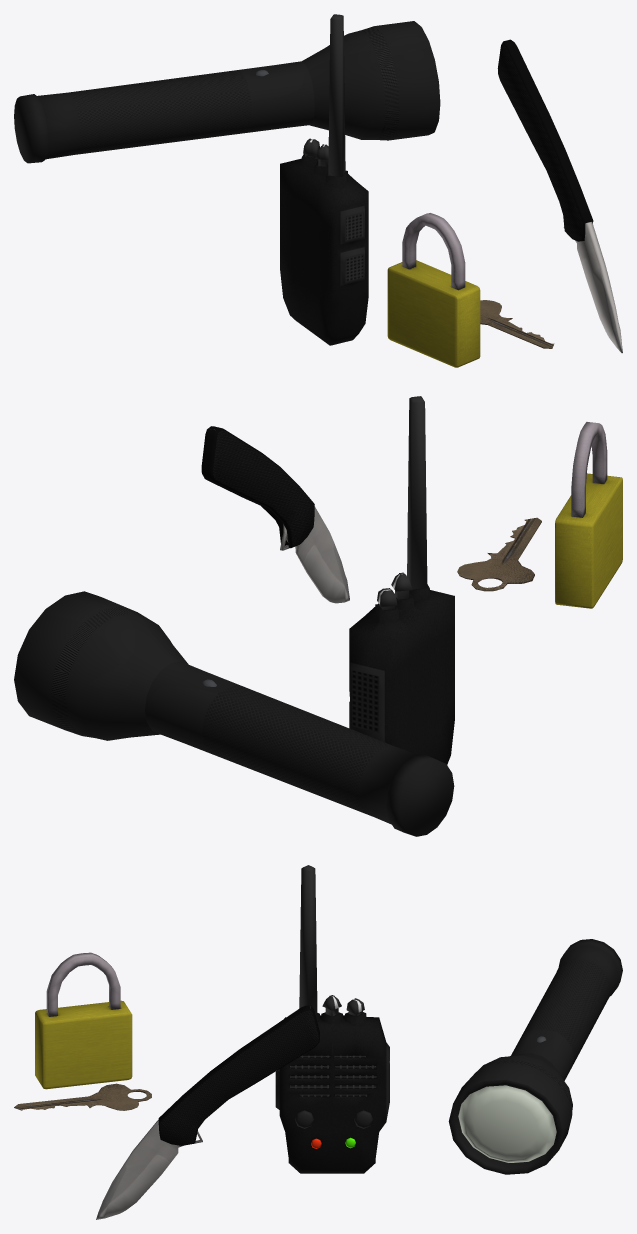
Rendered from PSXHorrorKit_Default.obj.
The picture shows the model from 3 angles, top to bottom: view 1: azimuth 30°, elevation 25°; view 2: azimuth 150°, elevation 25°; view 3: azimuth 270°, elevation 25°; orthographic projection. The views are drawn at different scales.
Parts seen in each view (by area): view 1: Flashlight_Material.012, Radio_Material.015, Lock_Body_Material.013, Knife_Handle_Material.014, Radio_Antenna_Material.015, Knife_Blade_Material.014, Lock_Bar_Material.013, Key_Material.013; view 2: Flashlight_Material.012, Radio_Material.015, Lock_Body_Material.013, Knife_Handle_Material.014, Radio_Antenna_Material.015, Knife_Blade_Material.014, Key_Material.013, Lock_Bar_Material.013; view 3: Flashlight_Material.012, Radio_Material.015, Lock_Body_Material.013, Knife_Handle_Material.014, Knife_Blade_Material.014, Radio_Antenna_Material.015, Lock_Bar_Material.013, Key_Material.013, Radio_Speaker_Material.015.
Boxes of the visible parts, x1=… form: Flashlight_Material.012: x1=14, y1=21, x2=440, y2=163; Radio_Material.015: x1=280, y1=153, x2=368, y2=345; Lock_Body_Material.013: x1=387, y1=260, x2=480, y2=367; Knife_Handle_Material.014: x1=497, y1=39, x2=593, y2=241; Radio_Antenna_Material.015: x1=328, y1=14, x2=345, y2=176; Knife_Blade_Material.014: x1=563, y1=222, x2=622, y2=353; Lock_Bar_Material.013: x1=402, y1=213, x2=465, y2=290; Key_Material.013: x1=480, y1=300, x2=554, y2=348; Flashlight_Material.012: x1=14, y1=591, x2=454, y2=836; Radio_Material.015: x1=349, y1=584, x2=454, y2=764; Lock_Body_Material.013: x1=555, y1=473, x2=622, y2=608; Knife_Handle_Material.014: x1=201, y1=426, x2=314, y2=548; Radio_Antenna_Material.015: x1=407, y1=396, x2=427, y2=589; Knife_Blade_Material.014: x1=280, y1=506, x2=349, y2=603; Key_Material.013: x1=457, y1=517, x2=541, y2=591; Lock_Bar_Material.013: x1=571, y1=422, x2=607, y2=517; Flashlight_Material.012: x1=448, y1=939, x2=622, y2=1174; Radio_Material.015: x1=275, y1=1012, x2=389, y2=1173; Lock_Body_Material.013: x1=35, y1=1000, x2=132, y2=1089; Knife_Handle_Material.014: x1=158, y1=1005, x2=319, y2=1145; Knife_Blade_Material.014: x1=96, y1=1120, x2=202, y2=1219; Radio_Antenna_Material.015: x1=299, y1=865, x2=317, y2=1014; Lock_Bar_Material.013: x1=46, y1=952, x2=120, y2=1016; Key_Material.013: x1=14, y1=1083, x2=151, y2=1110; Radio_Speaker_Material.015: x1=290, y1=1055, x2=376, y2=1096.
Bounding box in the file's own units: 5.72 × 4.78 × 8.76.
